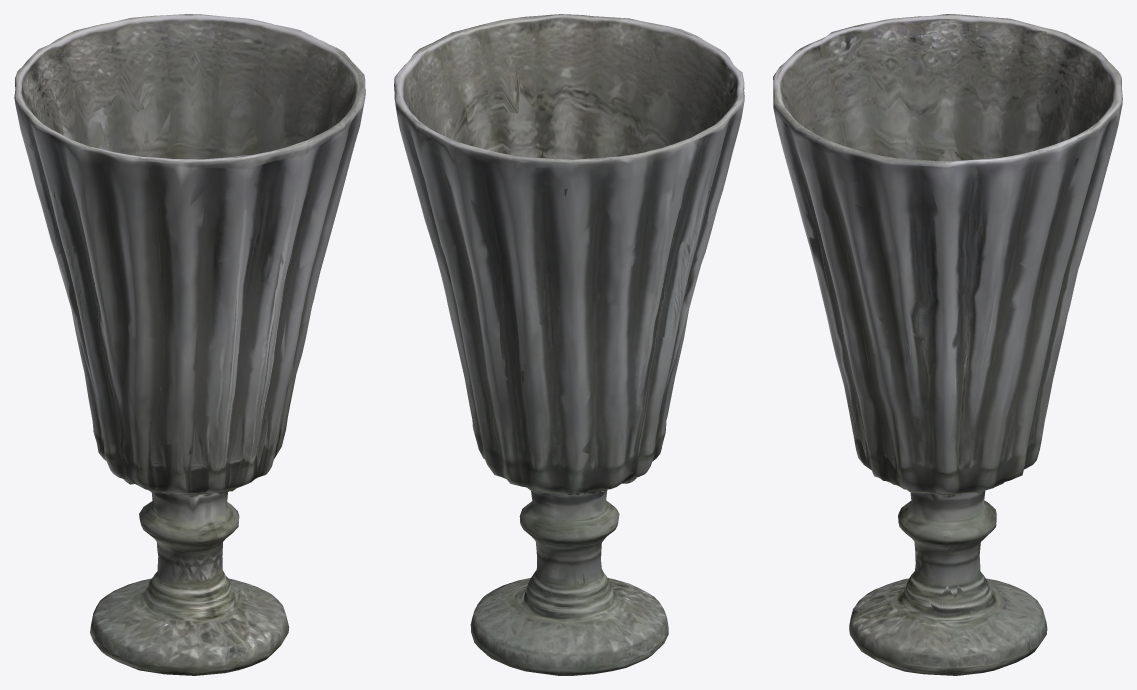
Rendered from L_204_11_glass.glb.
3 renders of one model, left to right at view 1: azimuth 30°, elevation 25°; view 2: azimuth 150°, elevation 25°; view 3: azimuth 270°, elevation 25°, orthographic.
Visible parts, largest first — view 1: Mesh_0; view 2: Mesh_0; view 3: Mesh_0.
Boxes of the visible parts, x1,y1,x2,y2 form: Mesh_0: (14,14,365,675); Mesh_0: (394,14,744,675); Mesh_0: (773,14,1122,675).
Bounding box in the file's own units: 78.38 × 135 × 77.43.
Materials: 1 (1 with a texture image).
